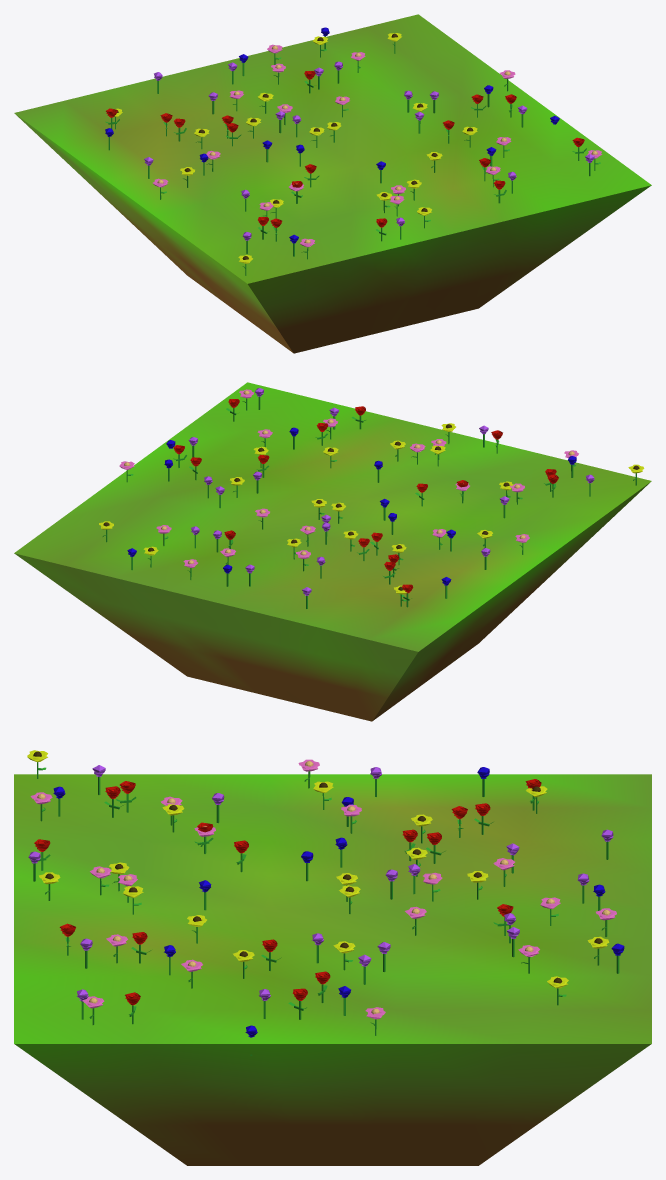
3 views of the same model, one above another, from view 1: azimuth 30°, elevation 25°; view 2: azimuth 150°, elevation 25°; view 3: azimuth 270°, elevation 25° (orthographic). The views are drawn at different scales.
Parts seen in each view (by area): view 1: Base; view 2: Base; view 3: Base.
Boxes of the visible parts, left/top/right/bottom form: Base: left=14, top=14, right=651, bottom=353; Base: left=14, top=382, right=651, bottom=721; Base: left=14, top=774, right=651, bottom=1165.
Size of the model in its own units: 14.36 by 5.58 by 14.36.
